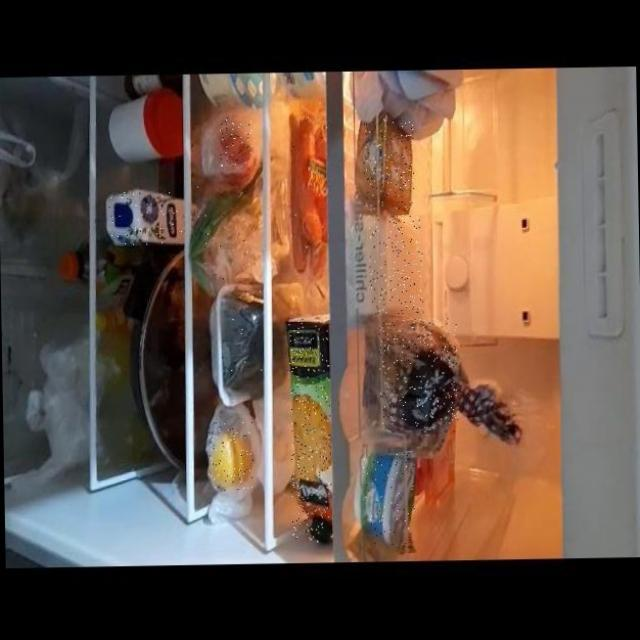Mantequilla: (362, 118, 414, 211)
Queso: (367, 213, 422, 314)
Yogur: (361, 453, 414, 546)
Zanahoria: (291, 116, 329, 277)
